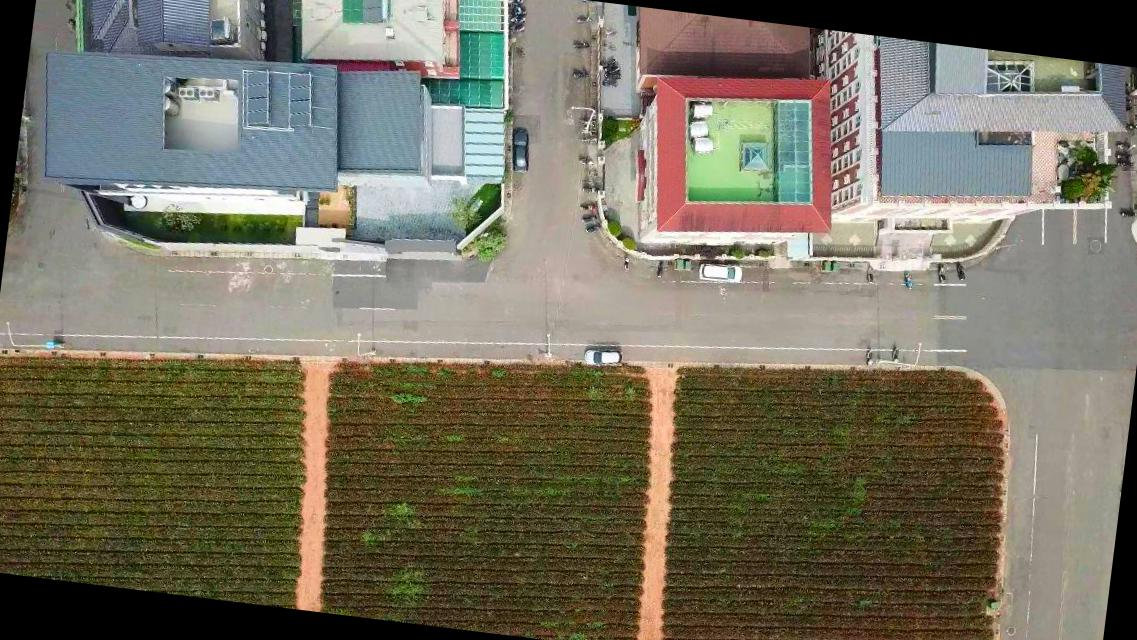vehicle: (506, 126, 536, 176), (696, 256, 743, 286), (580, 343, 625, 370)
